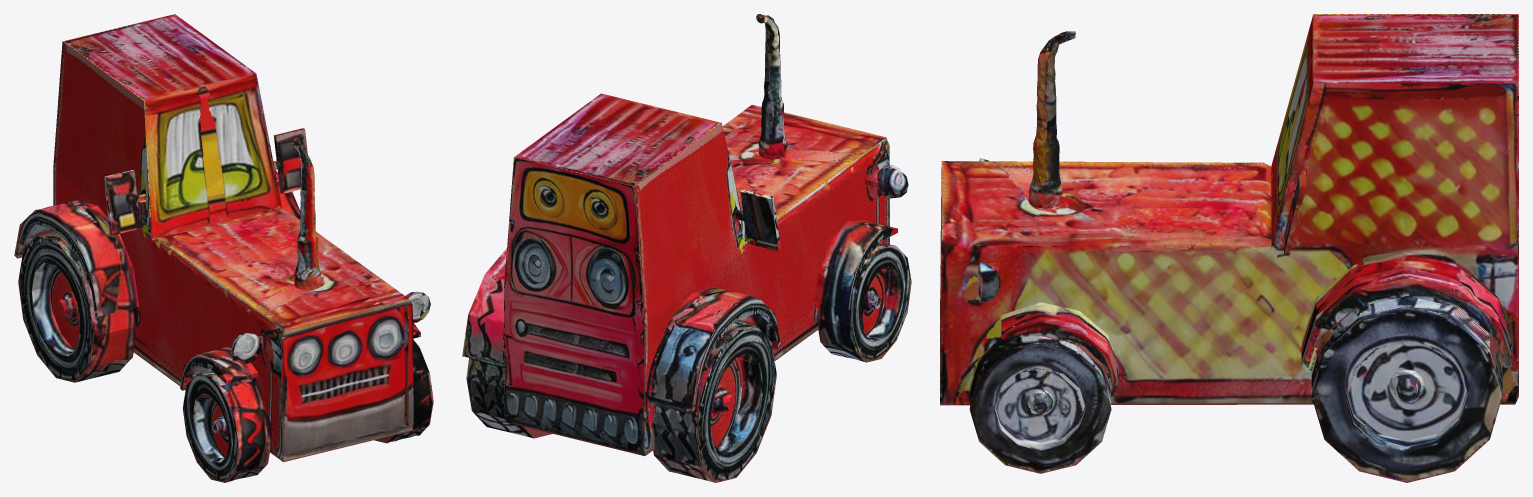
Rendered from tractor.glb.
The picture shows the model from 3 angles, left to right: view 1: azimuth 30°, elevation 25°; view 2: azimuth 150°, elevation 25°; view 3: azimuth 270°, elevation 25°; orthographic projection. The views are drawn at different scales.
Parts seen in each view (by area): view 1: mesh; view 2: mesh; view 3: mesh.
Part boxes in pixels (x1,y1,x2,y2): mesh: (14,14,433,482); mesh: (462,14,911,482); mesh: (940,14,1518,482).
Bounding box in the file's own units: 0.4343 × 0.6014 × 0.8058.
1 material, 1 textured.
